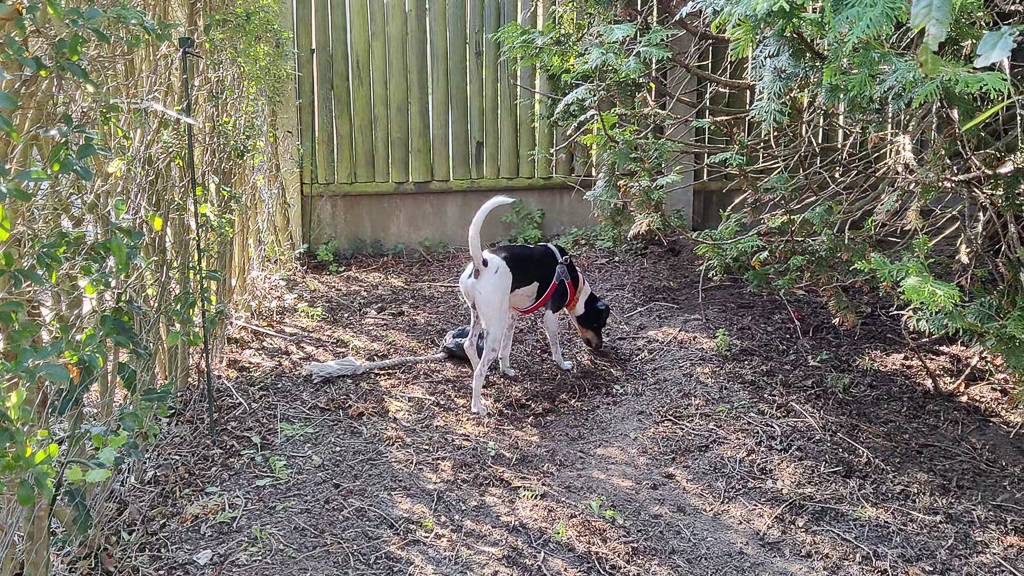Dog: (444, 187, 622, 434)
